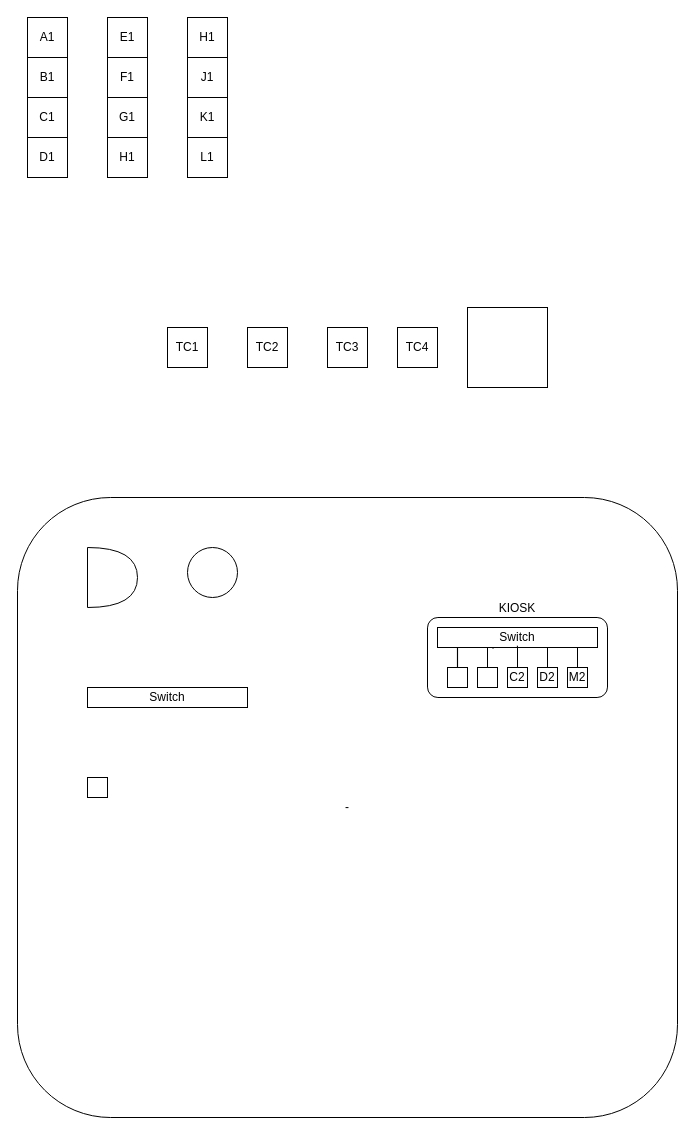
Some shapes in this 695 by 1135 pixel diagram are drawn without their labels. The centre of each missing label's shape, as x and y in pixels:
"A2" goes at point (457, 677).
"AP" goes at point (212, 572).
"B2" goes at point (487, 677).
"Render Server" goes at point (507, 347).
"TC" goes at point (97, 787).
"UBB TO OFC" goes at point (112, 577).
